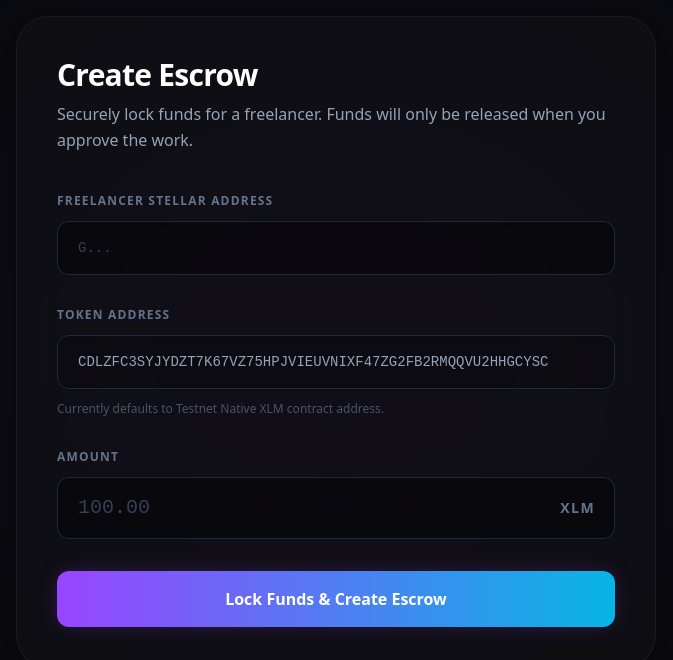
Test: CreateEscrow › renders correctly and shows wallet prompt if not connected
expect the heading "Create Escrow" is shown: met, box [57,54,258,95]
Type "GA7QYNF7SOWQ3GLR2B6RS22RCZB4Z2Z4YI2VMB7T4P2B6Y64K6T34K3Q" into the field with placeholder "G...". click: [336, 248]
box: [57,221,615,275]
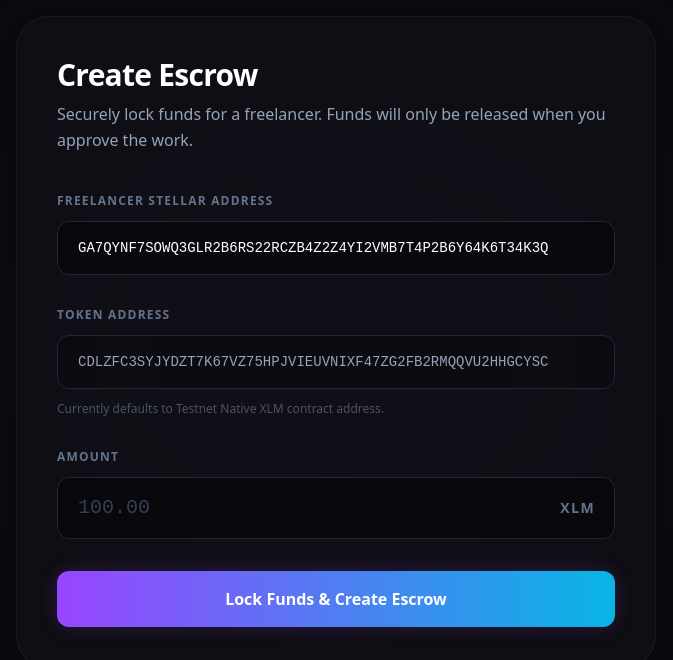
Type "100" into the number field with placeholder "100.00". click: [336, 508]
box: [57,477,615,539]
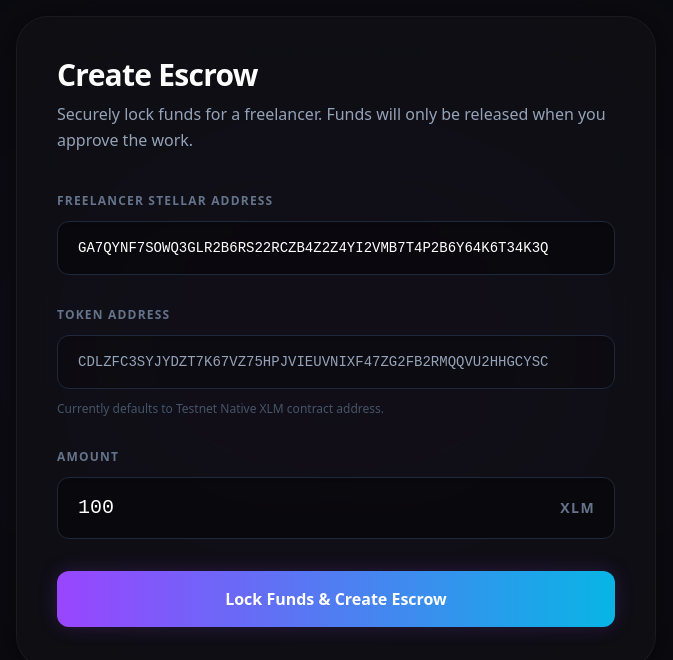
Attempt submit
Click the button "Lock Funds & Create Escrow". click: [336, 599]
box: [57,571,615,627]
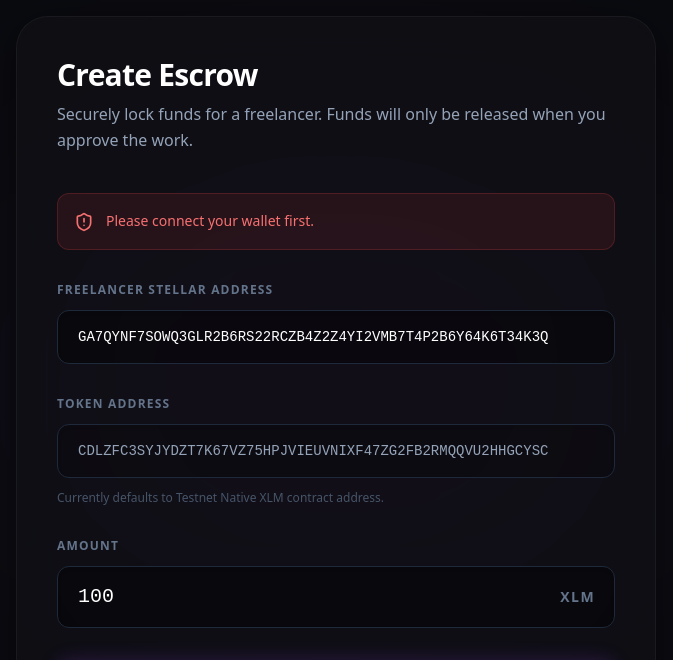
expect the text "Please connect your wallet first." is shown: met, box [106,210,314,233]
